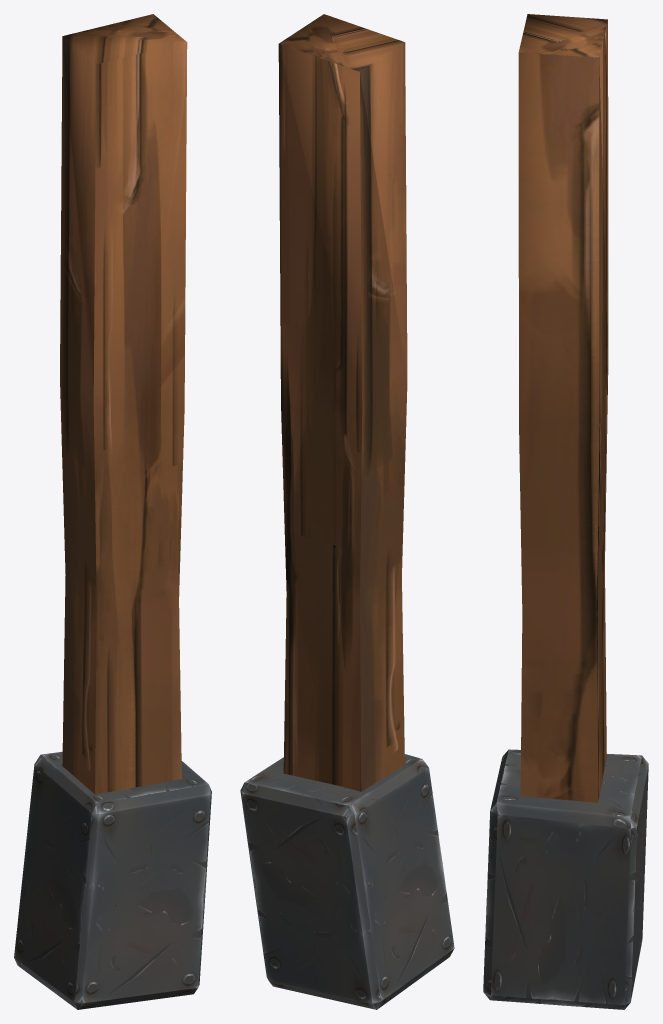
Rendered from Post.fbx.
The picture shows the model from 3 angles, left to right: view 1: azimuth 30°, elevation 25°; view 2: azimuth 150°, elevation 25°; view 3: azimuth 270°, elevation 25°; orthographic projection. The views are drawn at different scales.
Parts seen in each view (by area): view 1: 1_Pillar; view 2: 1_Pillar; view 3: 1_Pillar.
Boxes of the visible parts, x1,y1,x2,y2 form: 1_Pillar: (14, 14, 211, 1009); 1_Pillar: (240, 14, 454, 1009); 1_Pillar: (483, 14, 648, 1009).
Bounding box in the file's own units: 54.7 × 326 × 51.16.
